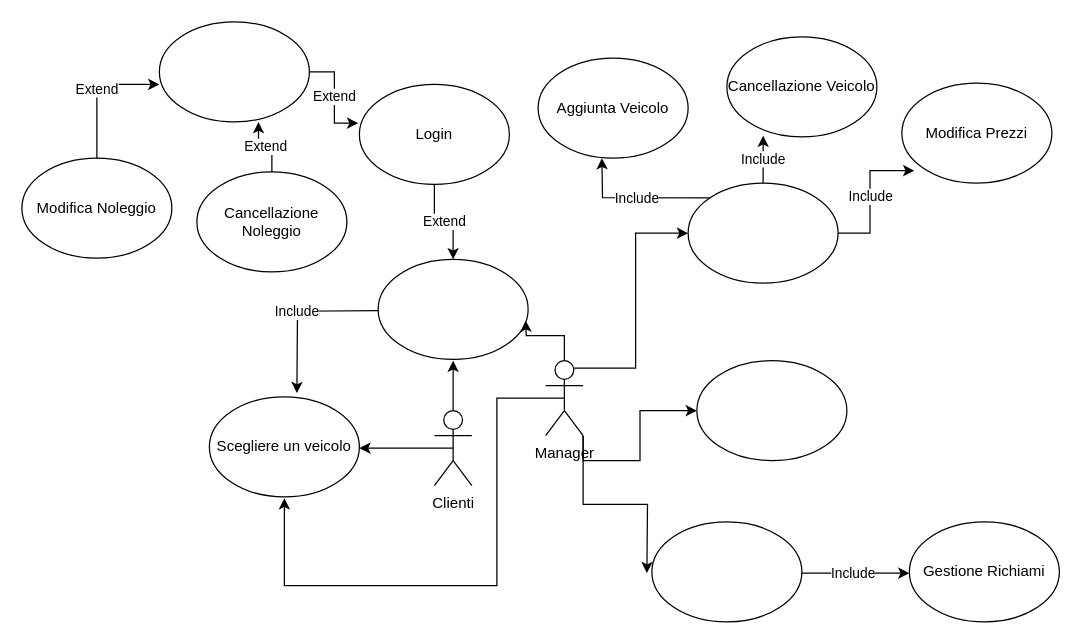
This 1081x644 diagram has some shape labels left out. The shapes that lost their labels are listed below. From the top down, each one's centre as x and y in pixels, then its label:
point 233,71: Noleggiare
point 762,232: Gestione Veicoli
point 452,308: Registrazione
point 771,410: Gestione Manutenzione
point 726,571: GestioneUtenti
